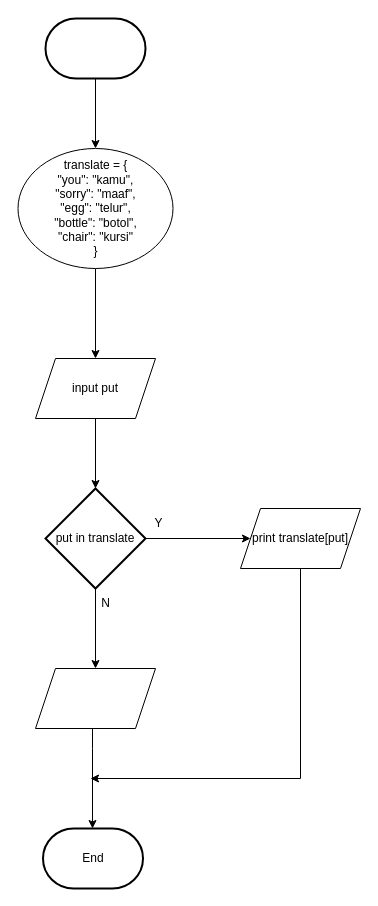
Image size: 378x906. Some labels were removed from this diagram. The centre of each missing label's shape, as x and y in pixels:
print("kata tidak ditemukan"): (95,698)
Start: (95,48)
